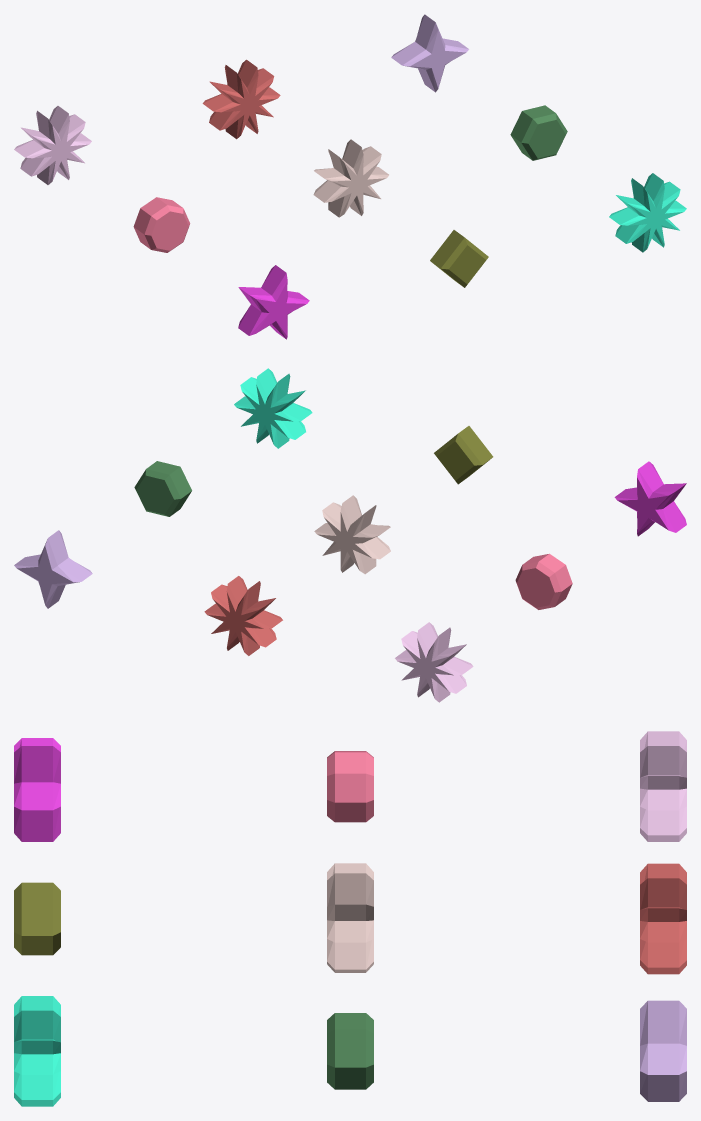
File: lambert_mats_3_LinearExtrusionTest_2023-06-04-21-23-00.gltf
3 renders of one model, top to bottom at view 1: azimuth 30°, elevation 25°; view 2: azimuth 150°, elevation 25°; view 3: azimuth 270°, elevation 25°, orthographic. The views are drawn at different scales.
Bounding box in the file's own units: 471 × 71.31 × 430.
